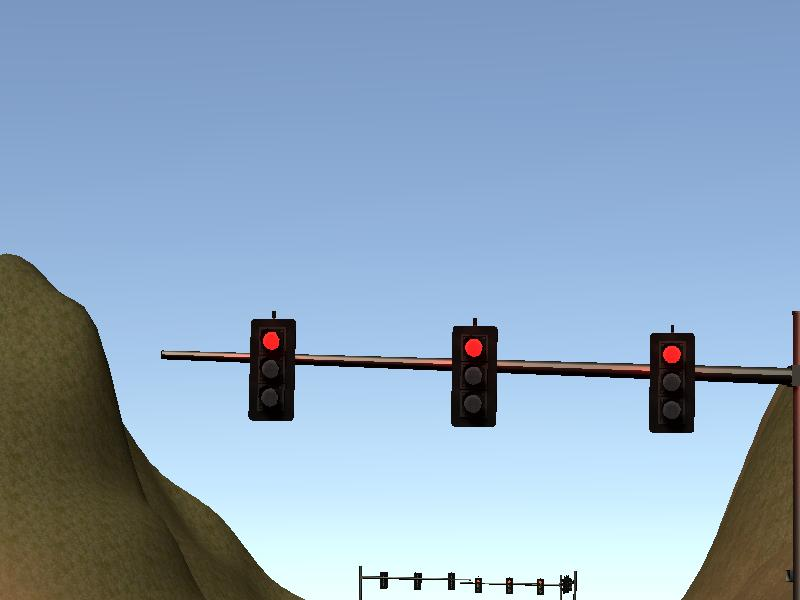Red: (650, 332, 695, 434), (451, 325, 496, 426), (251, 319, 293, 421)
